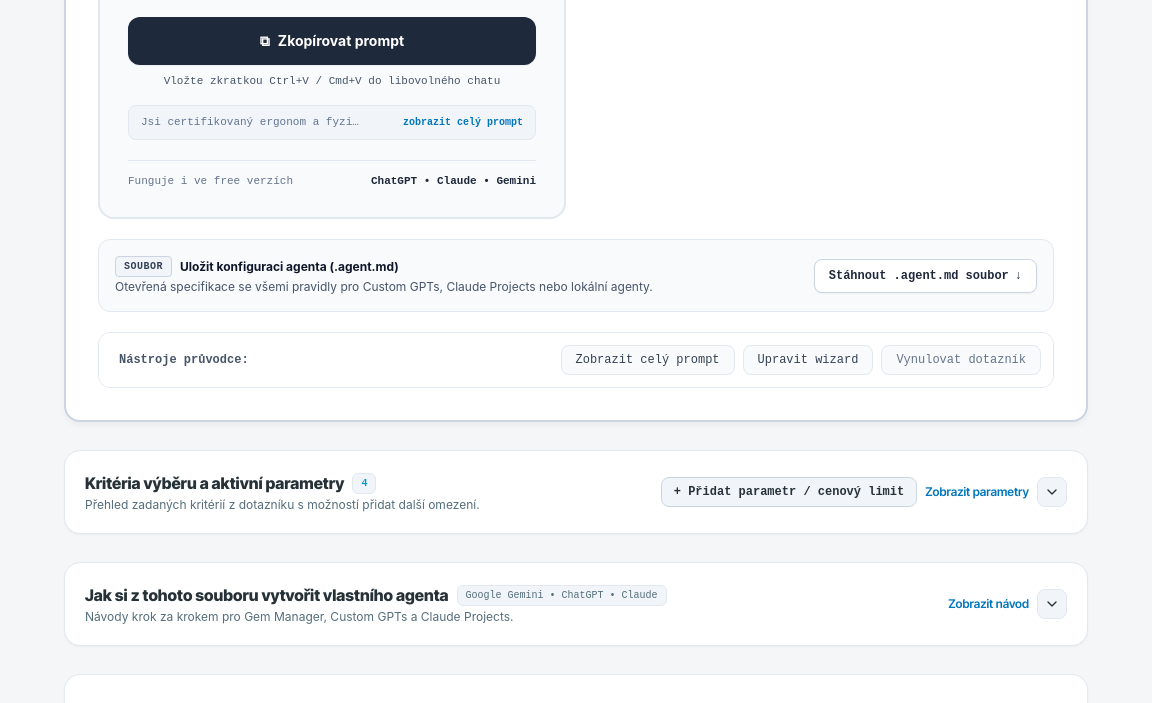
Test: DynamicAgentWizard Unit Test Suite (PRD v1) › 8. Umožňuje wizard kdykoliv zavřít a zahodit neuložený progress přes tlačítko Zavřít v hlavičce i spodní liště
(page scrolled)
Note: Enter wizard editing
Click the button "Upravit wizard". click: (808,360)
box: x1=742 y1=345 x2=873 y2=375
(page scrolled)
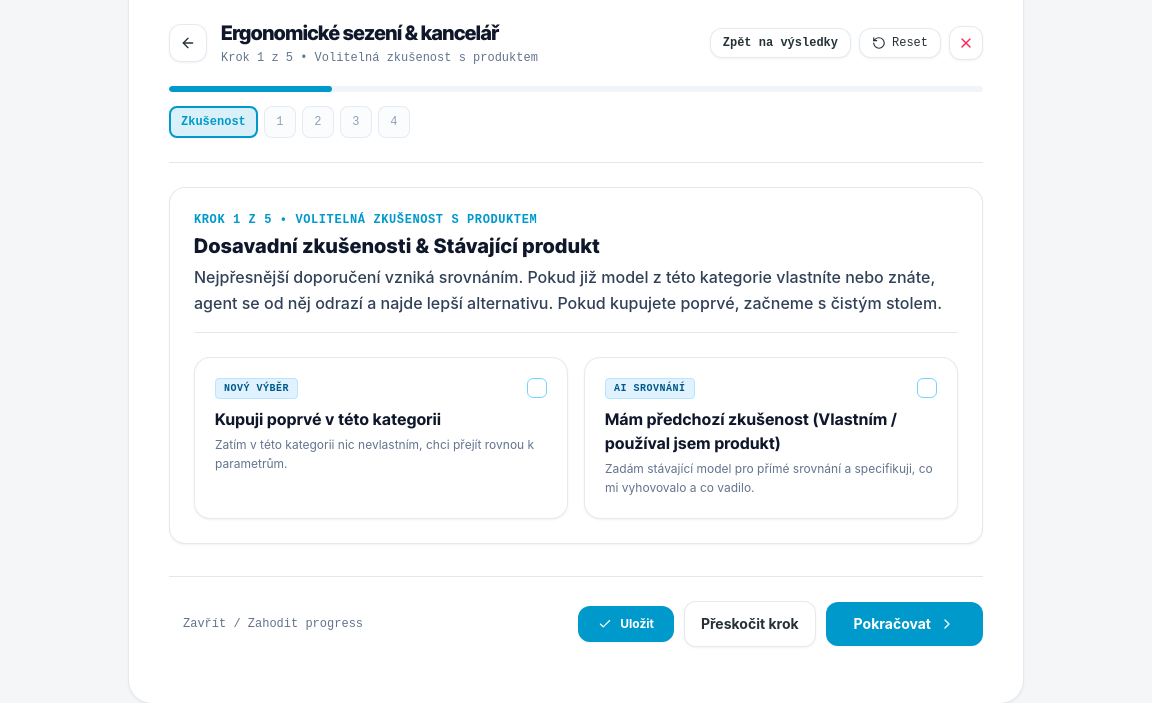
Result: the heading "Dosavadní zkušenosti & Stávající produkt" is shown at x1=194 y1=234 x2=600 y2=258
Result: the button named "Zavřít wizard" is shown
Result: the button "Zavřít / Zahodit progress" is shown at x1=169 y1=608 x2=377 y2=640
Note: Clicking close in header returns to the finished agent result
Click the button named "Zavřít wizard". click: (966,43)
box: x1=949 y1=26 x2=983 y2=60
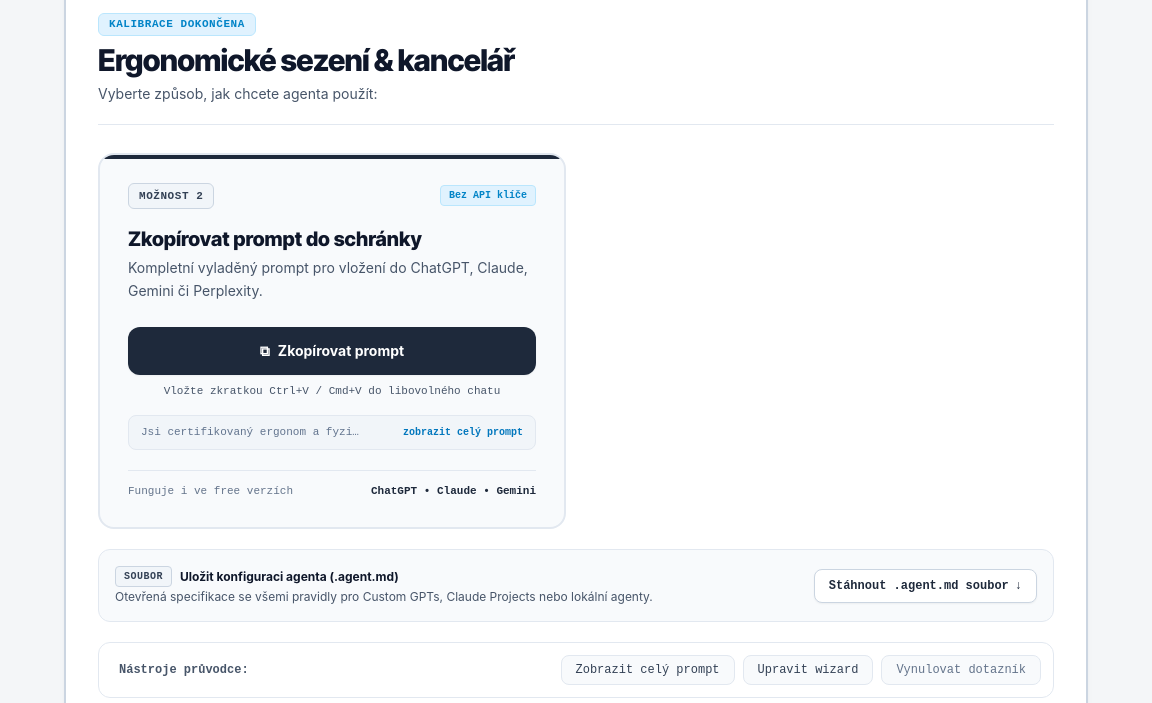
Result: the text "Kalibrace dokončena" is shown at x1=98 y1=13 x2=256 y2=36
Note: Enter editing again and click bottom close
Click the button "Upravit wizard". click: (808,670)
box: x1=742 y1=655 x2=873 y2=685
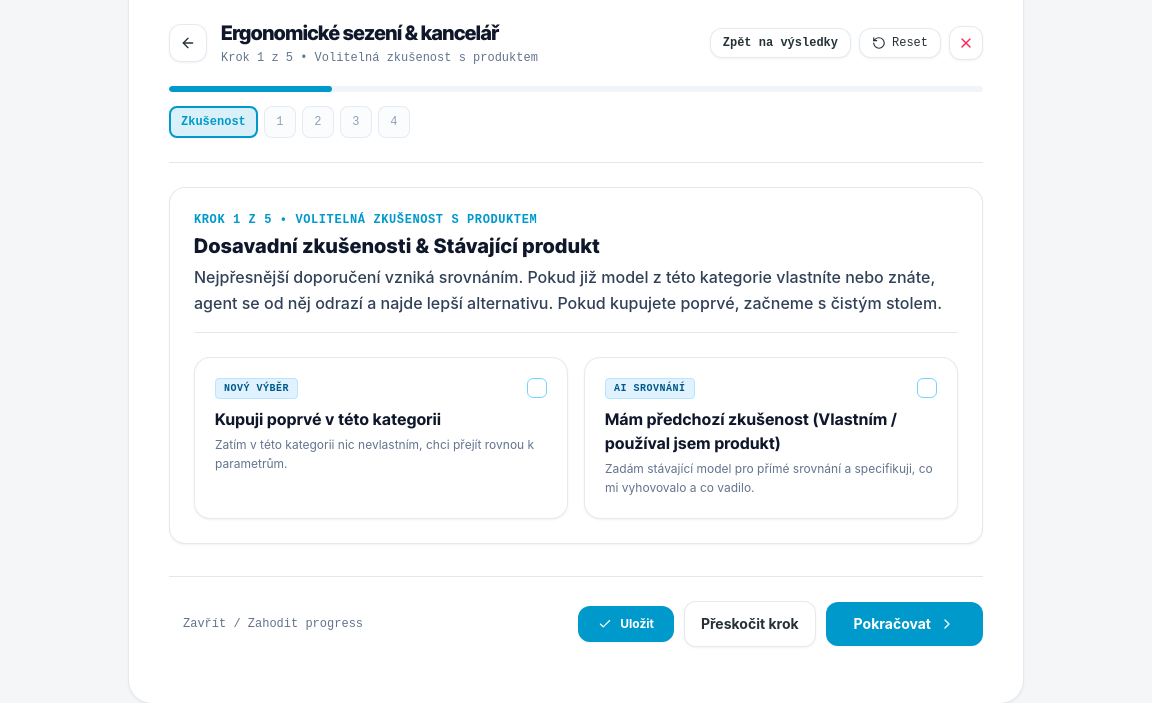
Result: the heading "Dosavadní zkušenosti & Stávající produkt" is shown at x1=194 y1=234 x2=600 y2=258
Click the button "Zavřít / Zahodit progress". click: (273,624)
box: x1=169 y1=608 x2=377 y2=640
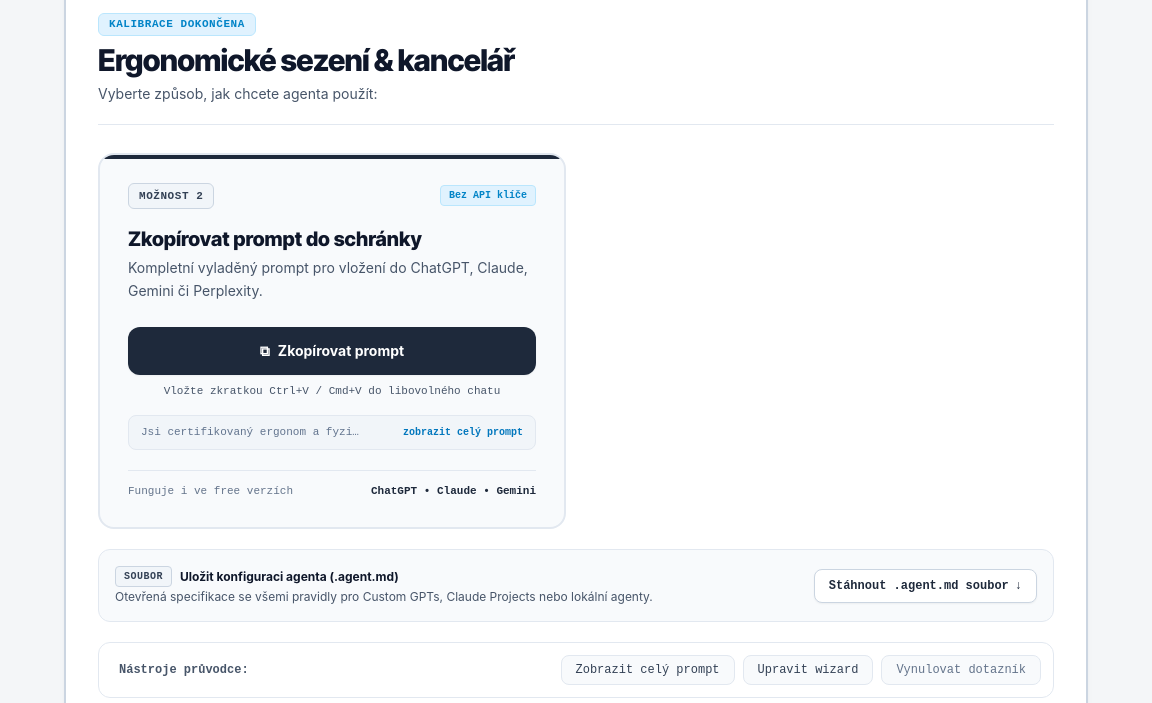
Result: the text "Kalibrace dokončena" is shown at x1=98 y1=13 x2=256 y2=36
